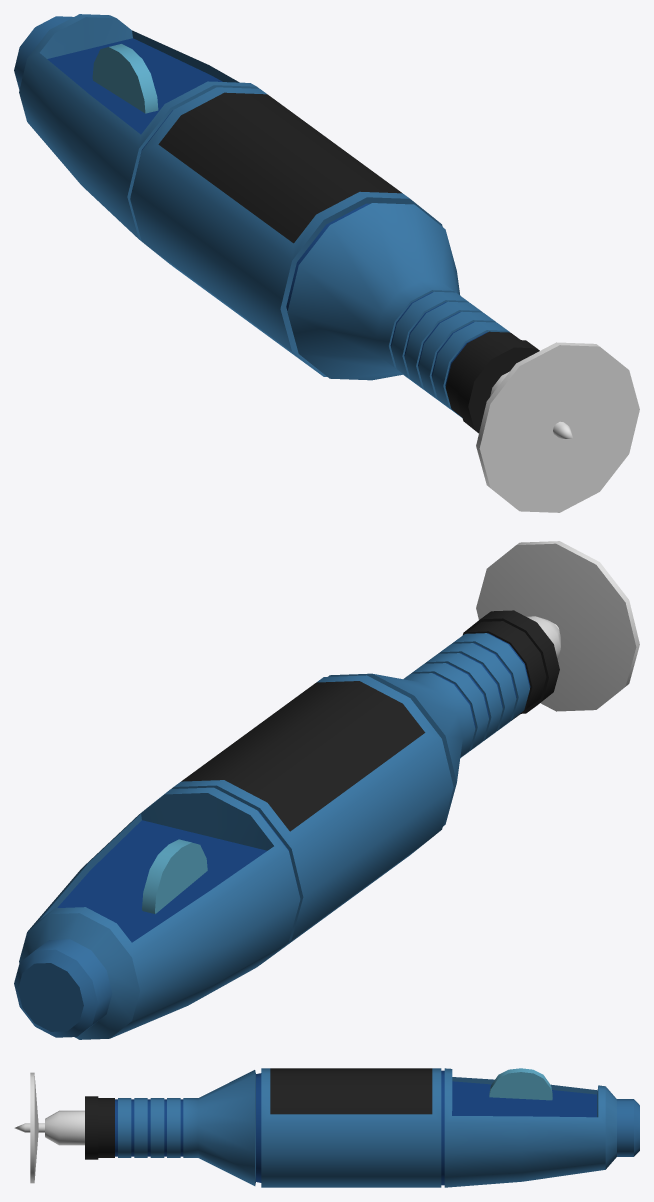
Rendered from drill_handle.fbx.
The picture shows the model from 3 angles, top to bottom: view 1: azimuth 30°, elevation 25°; view 2: azimuth 150°, elevation 25°; view 3: azimuth 270°, elevation 25°; orthographic projection. The views are drawn at different scales.
Visible parts, largest first — view 1: Drill_Handle, Drill_Handle_Head; view 2: Drill_Handle, Drill_Handle_Head; view 3: Drill_Handle, Drill_Handle_Head.
Part boxes in pixels (x1,y1,x2,y2): Drill_Handle: [14, 14, 573, 439]; Drill_Handle_Head: [476, 342, 639, 512]; Drill_Handle: [14, 610, 560, 1039]; Drill_Handle_Head: [476, 541, 639, 711]; Drill_Handle: [14, 1068, 639, 1187]; Drill_Handle_Head: [30, 1072, 38, 1183].
Bounding box in the file's own units: 0.2079 × 0.2079 × 1.09.
2 materials, 1 textured.
